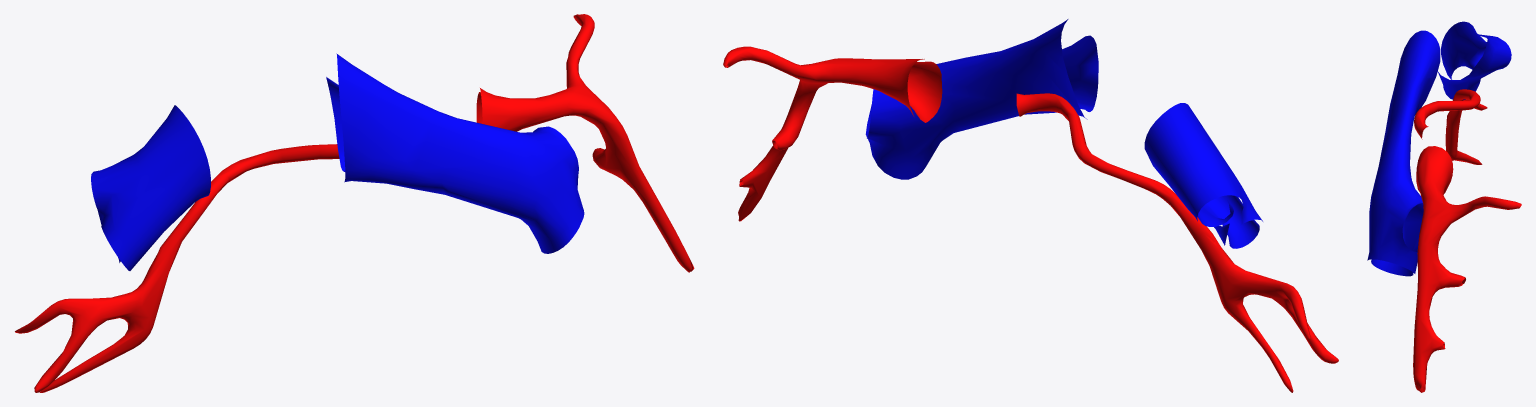
The model's file is kidney_vessels.glb.
3 renders of one model, left to right at view 1: azimuth 30°, elevation 25°; view 2: azimuth 150°, elevation 25°; view 3: azimuth 270°, elevation 25°, orthographic. The views are drawn at different scales.
Parts seen in each view (by area): view 1: VH_F_left_renal_vein, VH_F_right_renal_artery; view 2: VH_F_left_renal_vein, VH_F_right_renal_artery; view 3: VH_F_left_renal_vein, VH_F_right_renal_artery.
Boxes of the visible parts, x1,y1,x2,y2 form: VH_F_left_renal_vein: (91,53,584,270); VH_F_right_renal_artery: (15,14,694,392); VH_F_left_renal_vein: (865,19,1262,248); VH_F_right_renal_artery: (723,46,1338,392); VH_F_left_renal_vein: (1367,21,1511,276); VH_F_right_renal_artery: (1413,89,1521,392).
Bounding box in the file's own units: 0.1334 × 0.0601 × 0.0363.
